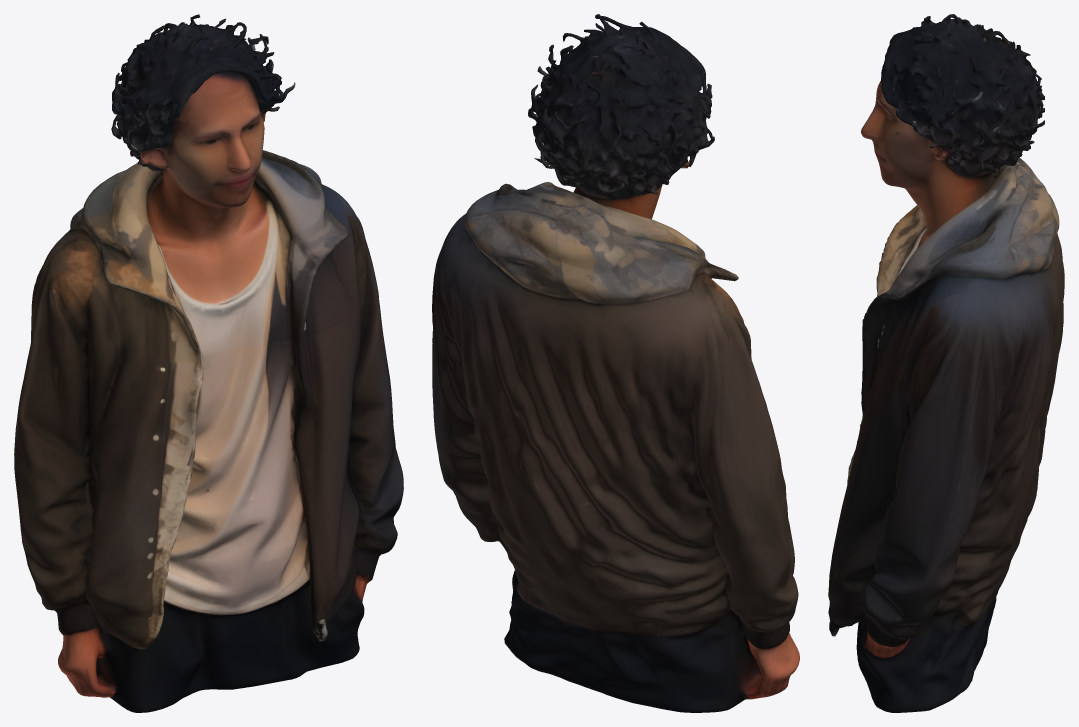
3 views of the same model, side by side, from view 1: azimuth 30°, elevation 25°; view 2: azimuth 150°, elevation 25°; view 3: azimuth 270°, elevation 25° (orthographic). The views are drawn at different scales.
Parts seen in each view (by area): view 1: material; view 2: material; view 3: material.
Boxes of the visible parts, x1,y1,x2,y2 form: material: (14, 14, 403, 712); material: (432, 14, 799, 712); material: (828, 14, 1064, 712).
Bounding box in the file's own units: 0.6507 × 1.11 × 0.3751.
1 material, 1 textured.
